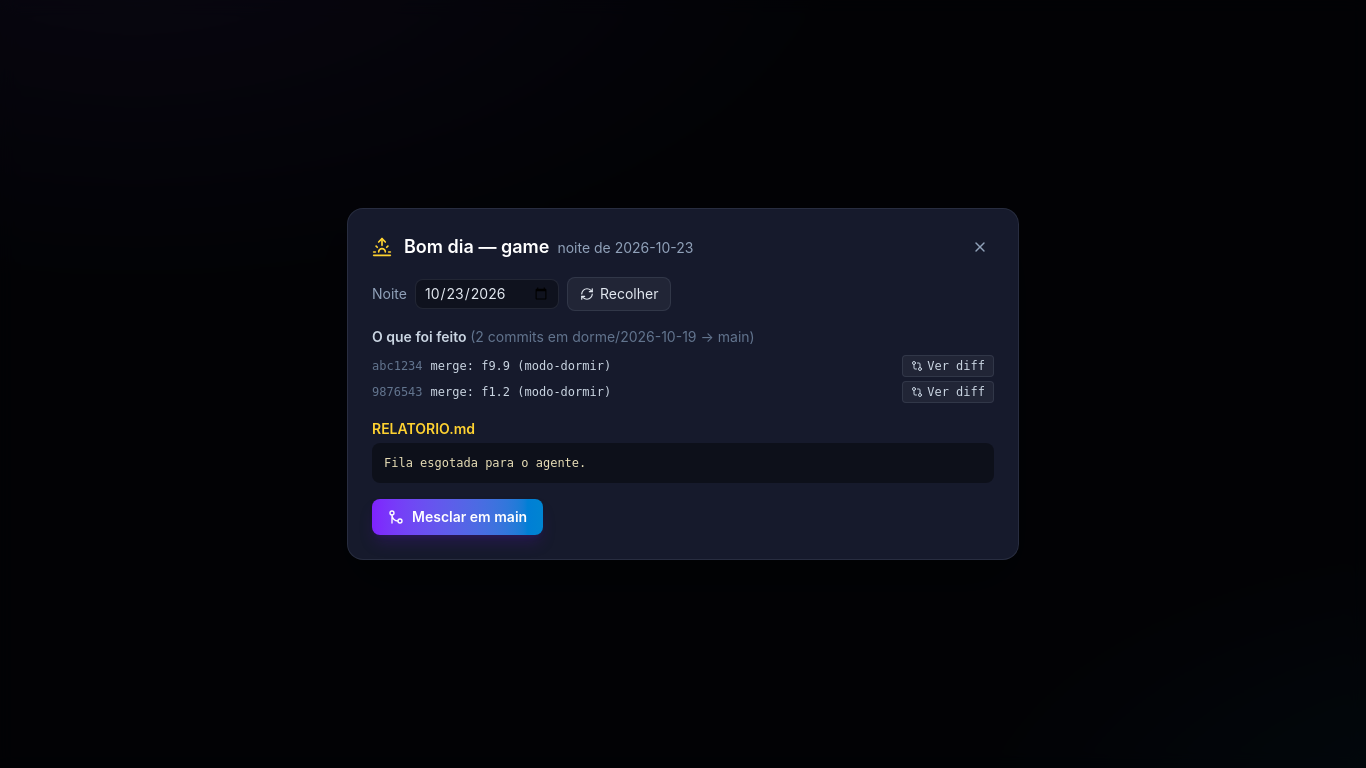
Scenario: GoodMorning › merge com um clique marca como mesclado
The width and height of the screenshot is (1366, 768).
Click the button "Mesclar em main" at point(458, 517), box [372, 499, 543, 535]
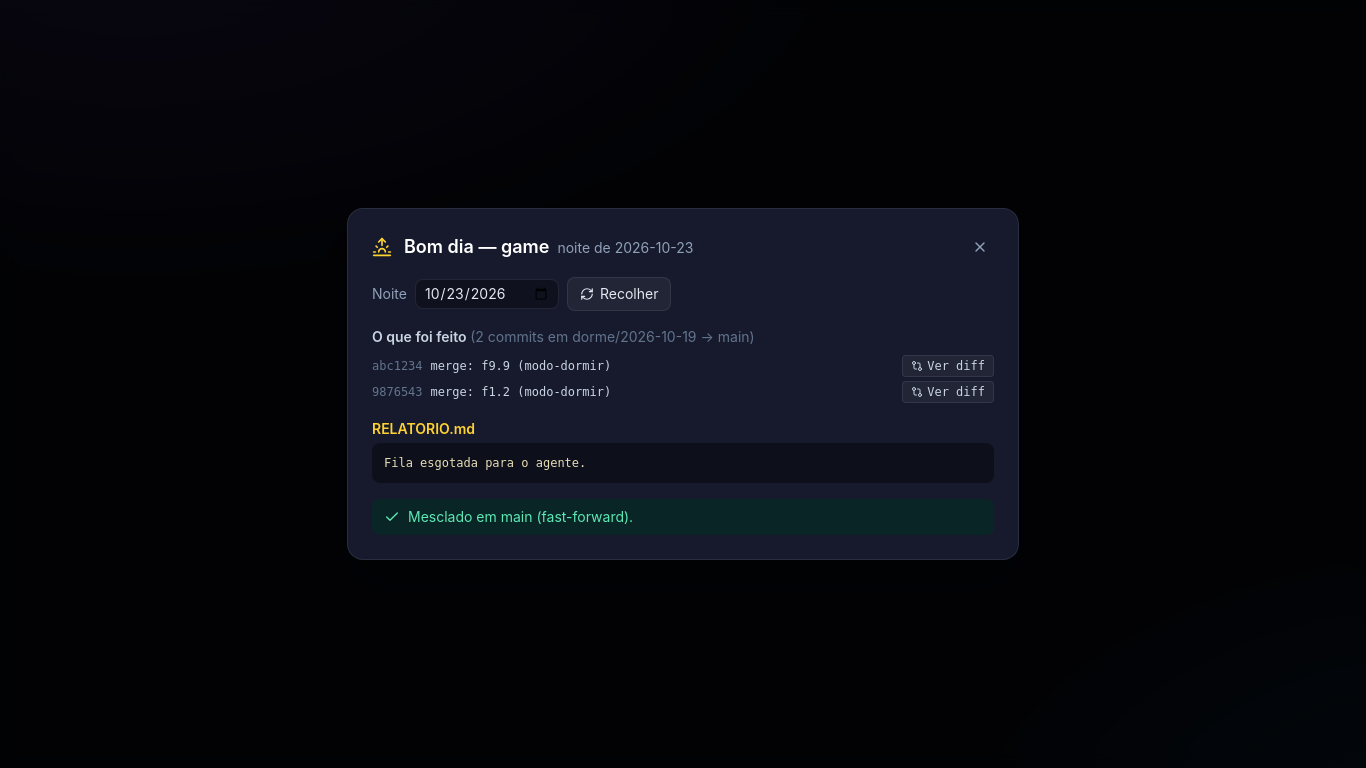
Now the text "Mesclado em main (fast-forward)." is shown, box [372, 499, 994, 535]
Now the button "Mesclar em main" is gone
